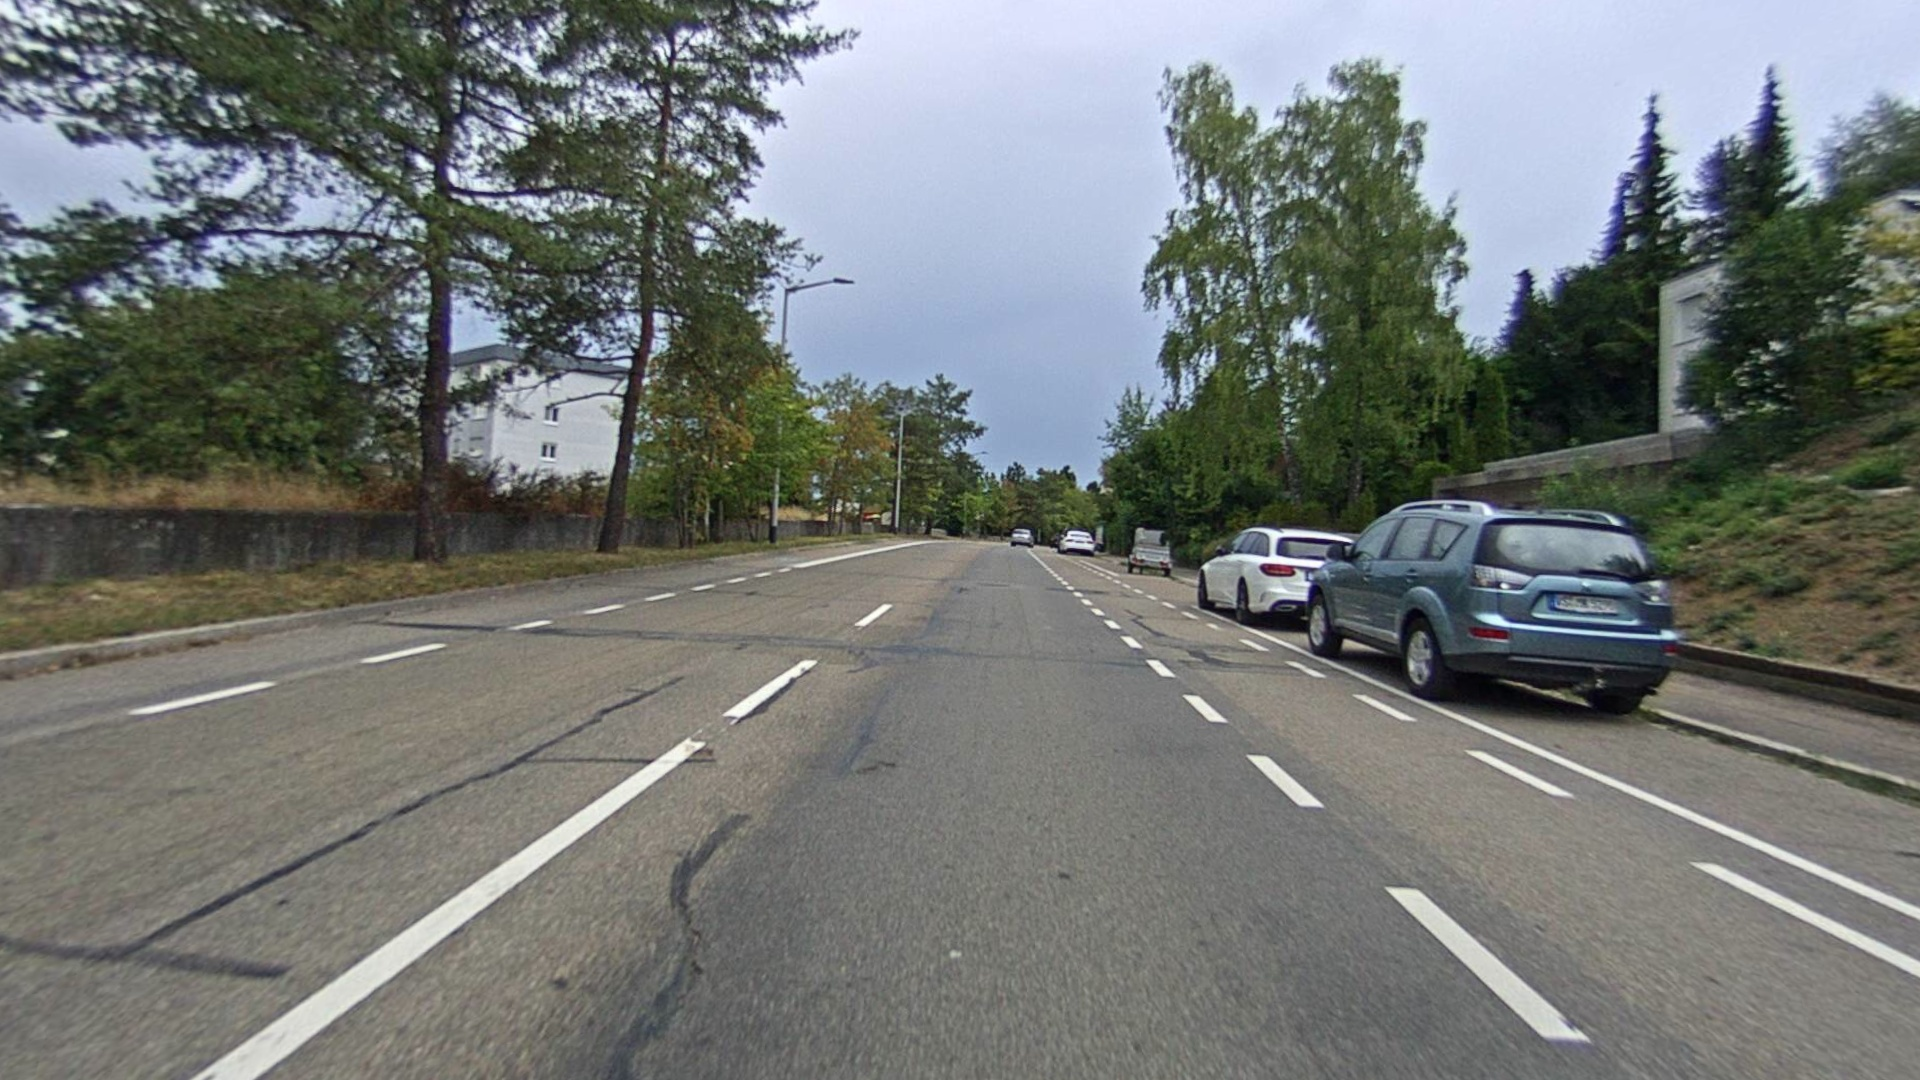car: (1302, 495, 1684, 725)
